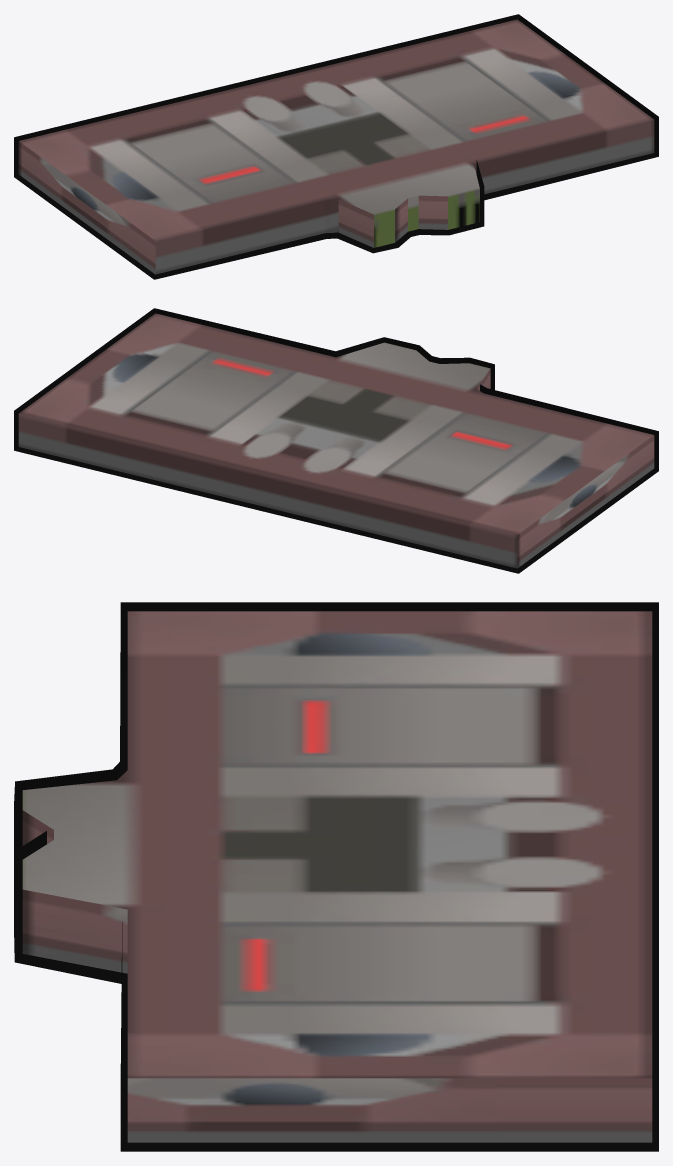
The model's file is Building_BasicRecharger_Things_Building_Production_BasicRecharger.glb.
3 renders of one model, top to bottom at view 1: azimuth 30°, elevation 25°; view 2: azimuth 150°, elevation 25°; view 3: azimuth 270°, elevation 25°, orthographic. The views are drawn at different scales.
Visible parts, largest first — view 1: Body, Outline; view 2: Body, Outline; view 3: Body, Outline.
Boxes of the visible parts, bbox=[...] form: Body: bbox=[18, 19, 654, 274]; Outline: bbox=[14, 14, 658, 279]; Body: bbox=[18, 313, 654, 568]; Outline: bbox=[14, 308, 658, 573]; Body: bbox=[22, 611, 652, 1142]; Outline: bbox=[14, 602, 658, 1151].
Bounding box in the file's own units: 1.49 × 0.1209 × 0.8575.
Materials: 2 (1 with a texture image).
